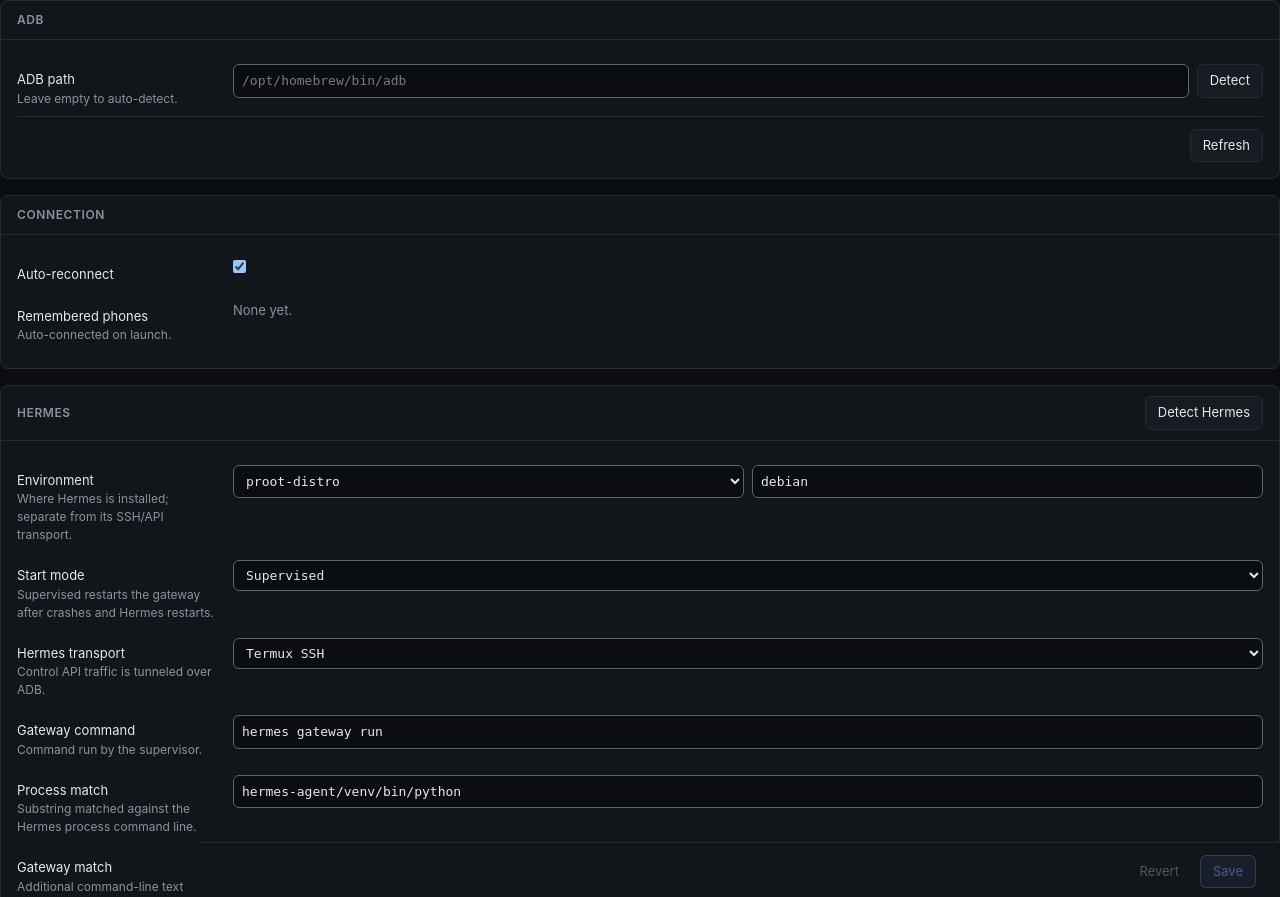
Test: SettingsView › restarts ADB once and refreshes detection and devices after completion
The width and height of the screenshot is (1280, 897).
Click the button with aria-label "Restart ADB server" at (1226, 145), box [1190,128,1263,162]
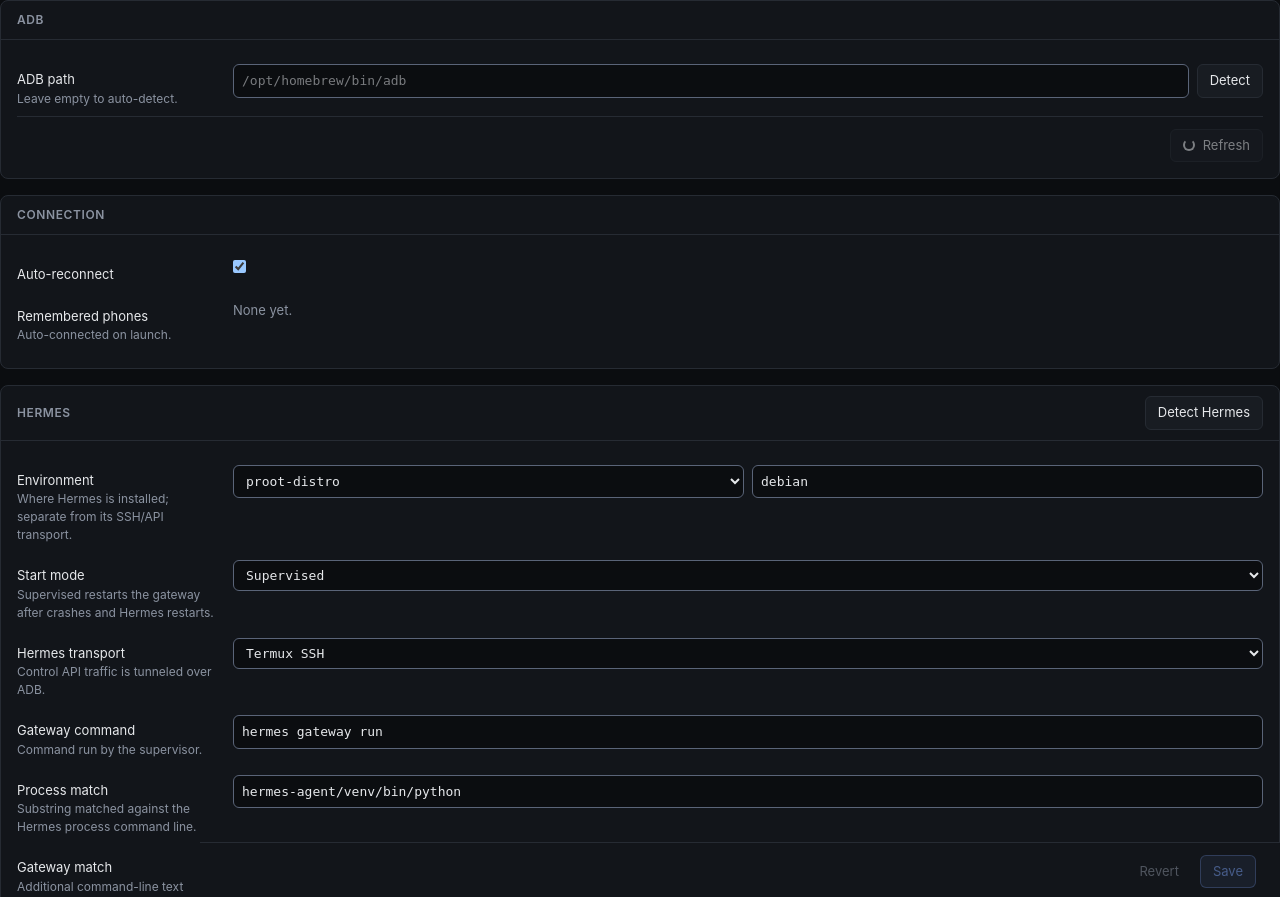
expect the button with aria-label "Restart ADB server" is disabled: met
Click the button with aria-label "Restart ADB server" at (1216, 145), box [1170,128,1263,162]
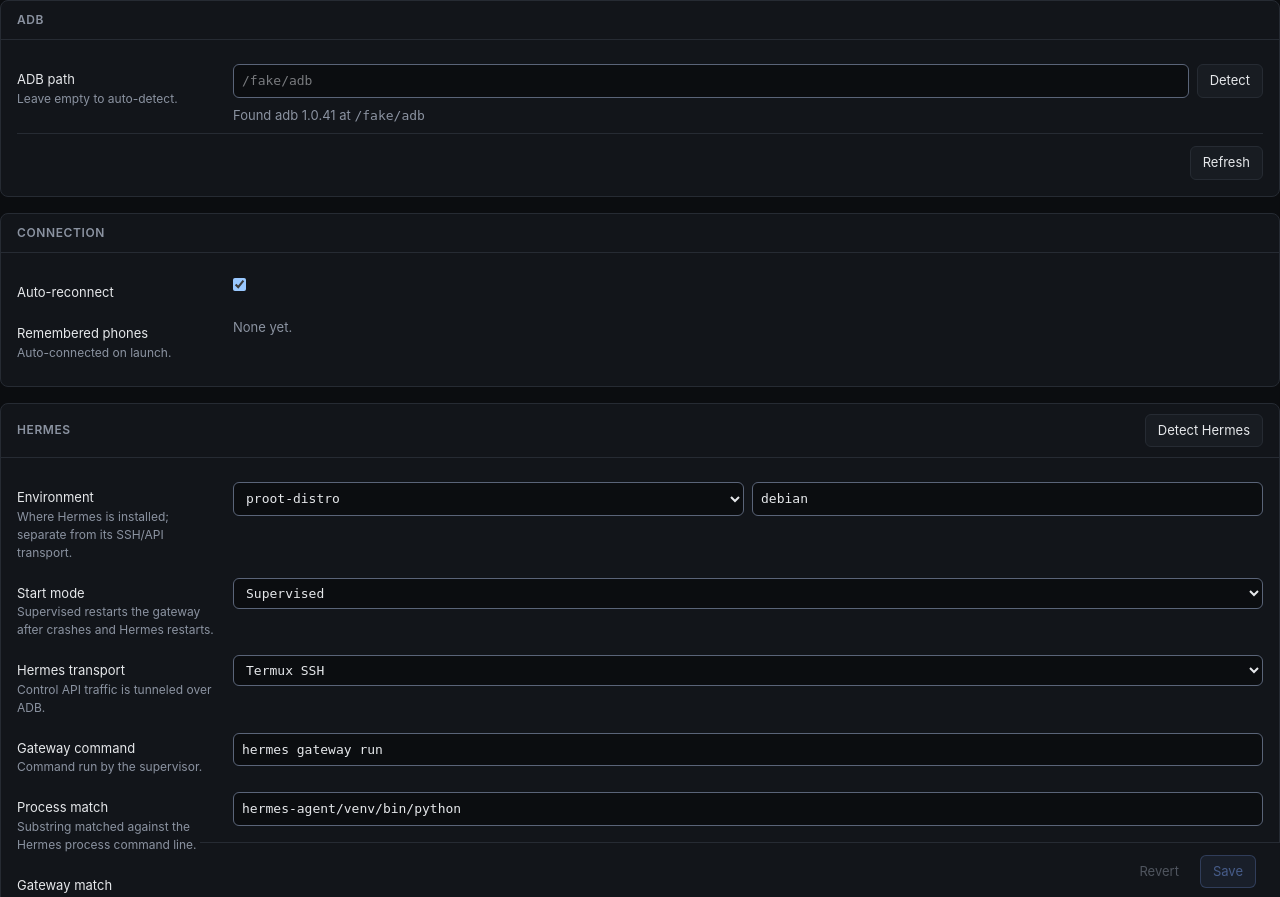
expect the button with aria-label "Restart ADB server" is enabled: met, box [1190,146,1263,180]
expect the text "Found adb 1.0.41 at /fake/adb" is shown: met, box [233,106,425,122]
